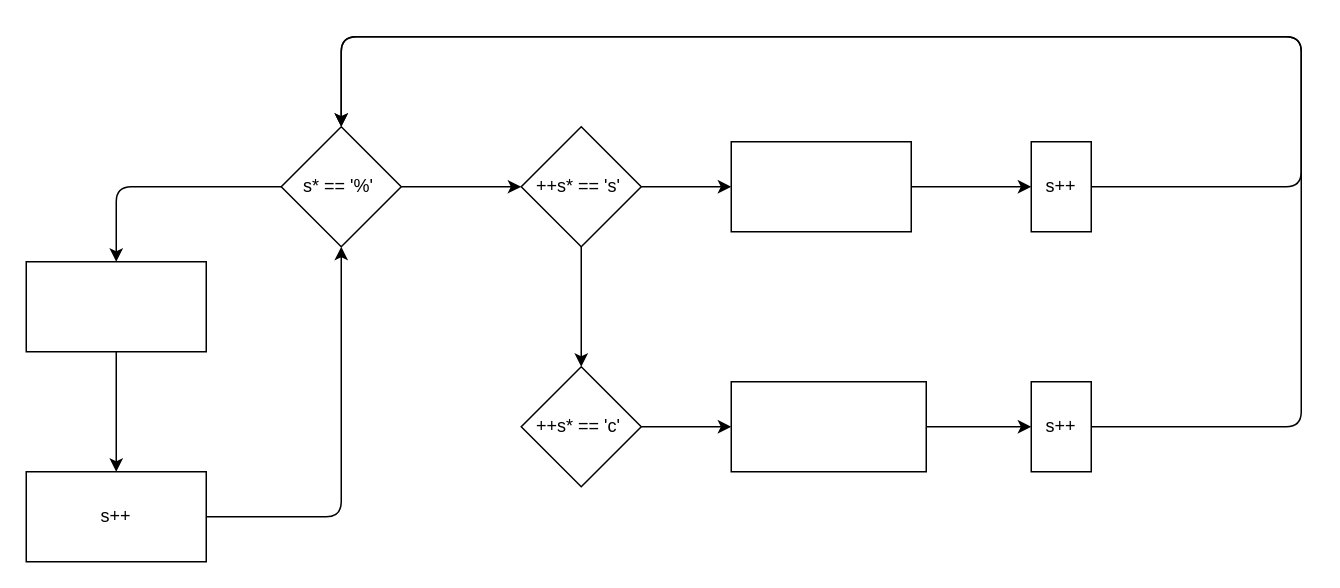
The diagram is 1340 pixels wide and 588 high, and some of its shapes have lost their labels. The centre of each missing label's shape, as x and y in pixels:
ft_putchar_fd( va_arg( arg_list, char), 1): [828,426]
ft_putstr( va_arg( arg_list, char *), 1): [820,186]
write(1, s, 1): [115,306]
